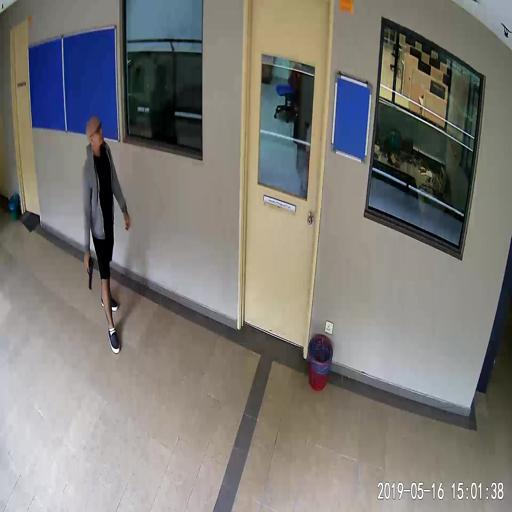pistol: (84, 256, 94, 290)
